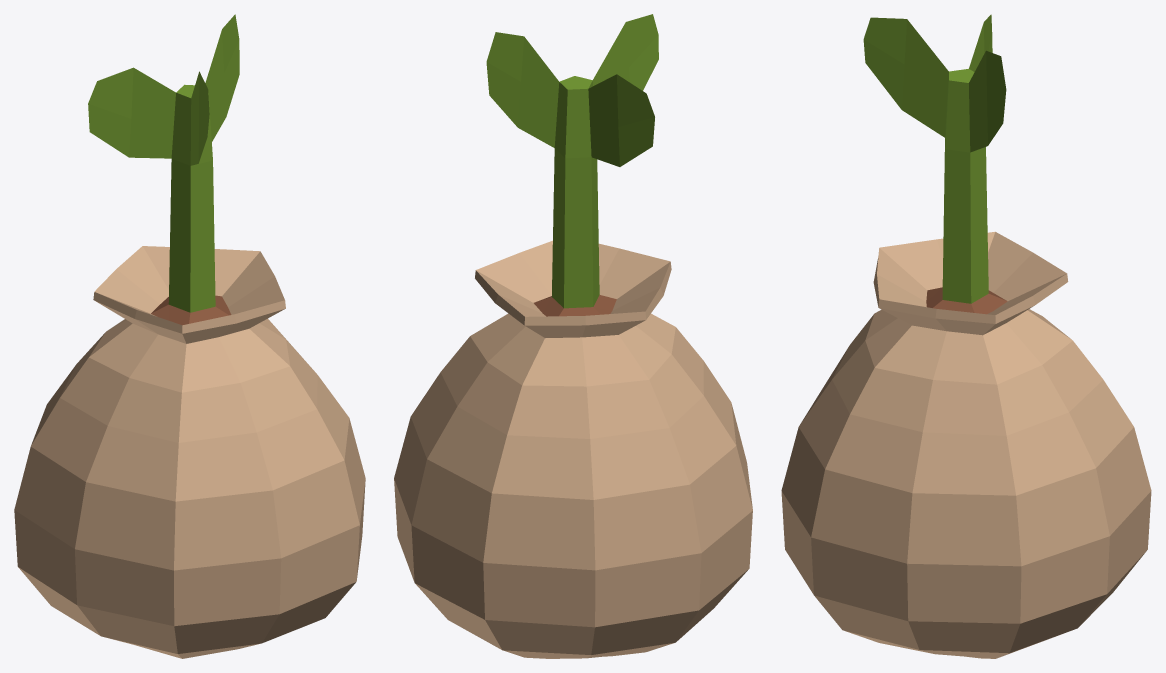
Rendered from sprout.glb.
3 renders of one model, left to right at view 1: azimuth 30°, elevation 25°; view 2: azimuth 150°, elevation 25°; view 3: azimuth 270°, elevation 25°, orthographic. The views are drawn at different scales.
Visible parts, largest first — view 1: sprout; view 2: sprout; view 3: sprout.
Boxes of the visible parts, box(x1,y1,x2,y2) form: sprout: box(14, 14, 365, 658); sprout: box(394, 14, 752, 658); sprout: box(781, 14, 1151, 658).
Size of the model in its own units: 0.6006 by 1.13 by 0.6209.
1 material, 1 textured.
